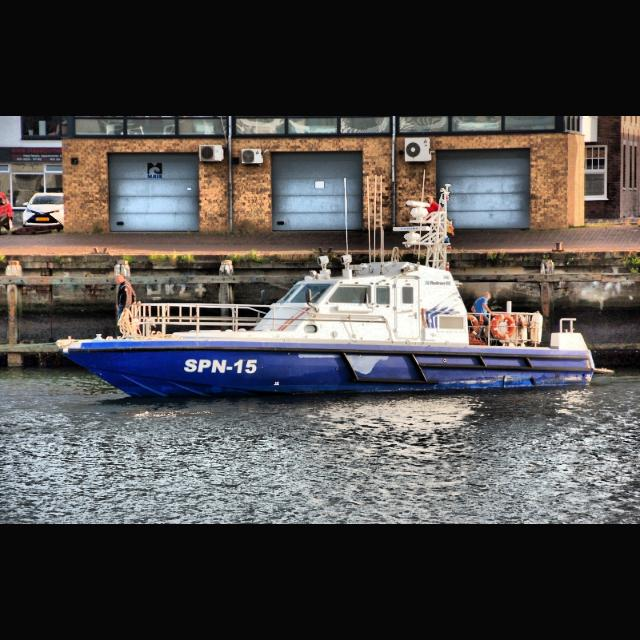patrol_vessel: (54, 179, 616, 401)
